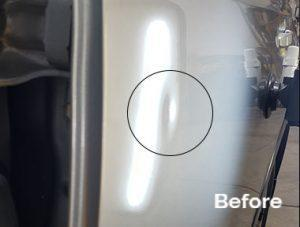dent: (129, 71, 213, 156)
